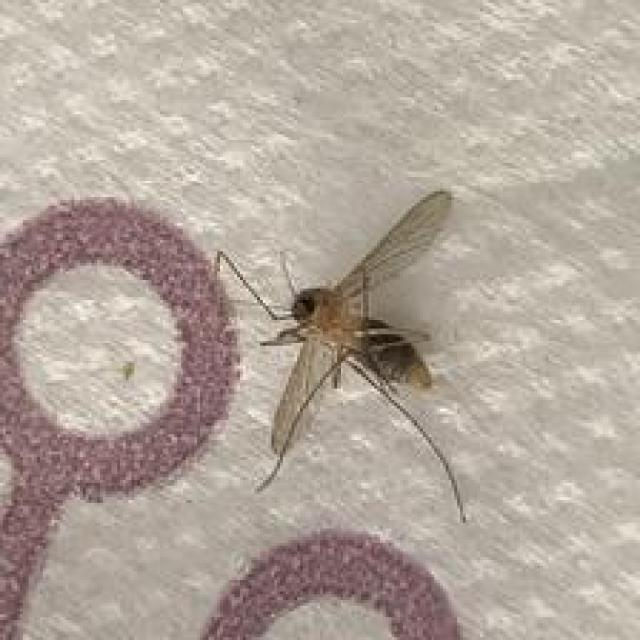Culex: (212, 187, 468, 524)
